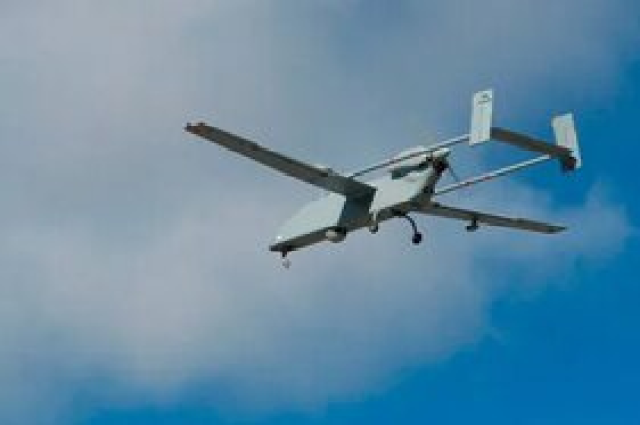military drone: (184, 87, 582, 257)
